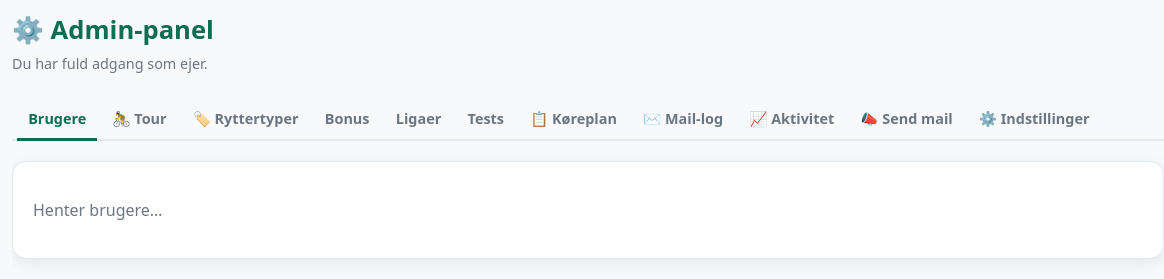
Scenario: AdminPage › Owner-bruger (fuld adgang) › faneskift til Ligaer viser ligaer-indhold
Click the tab with test id "tab-leagues" at (418, 120), box [385,99,452,141]
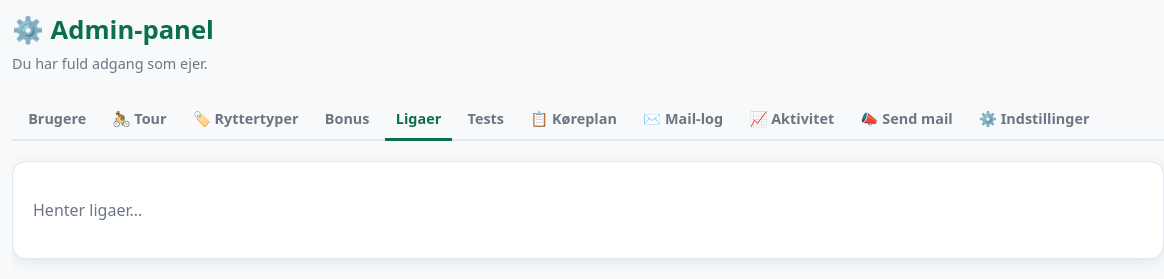
Result: the text "Henter ligaer…" is shown at [33,199,142,221]
